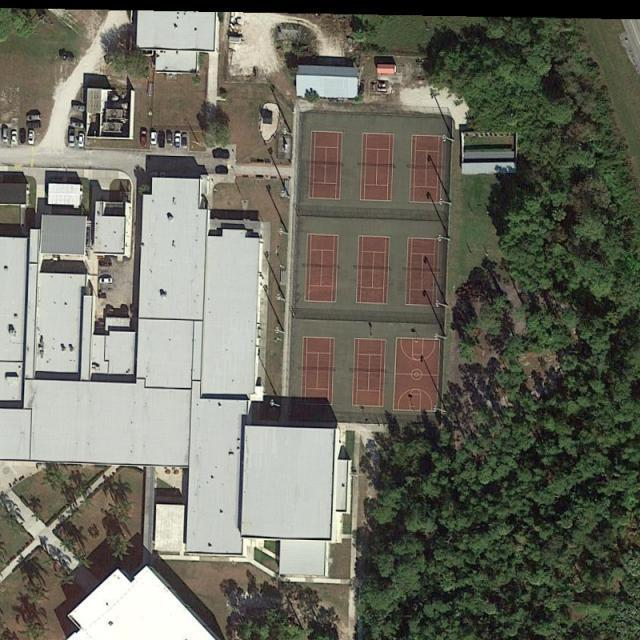vehicle: (60, 54, 78, 65), (174, 132, 182, 150), (140, 130, 149, 146), (73, 103, 87, 113), (158, 130, 166, 147), (78, 132, 86, 149), (27, 130, 36, 145), (69, 128, 76, 147), (26, 121, 42, 129), (166, 131, 174, 146), (150, 131, 158, 146), (99, 260, 114, 268), (2, 126, 9, 143), (182, 133, 189, 150), (11, 130, 18, 146), (100, 277, 114, 285), (26, 114, 42, 121), (19, 128, 26, 144), (70, 122, 85, 129)
